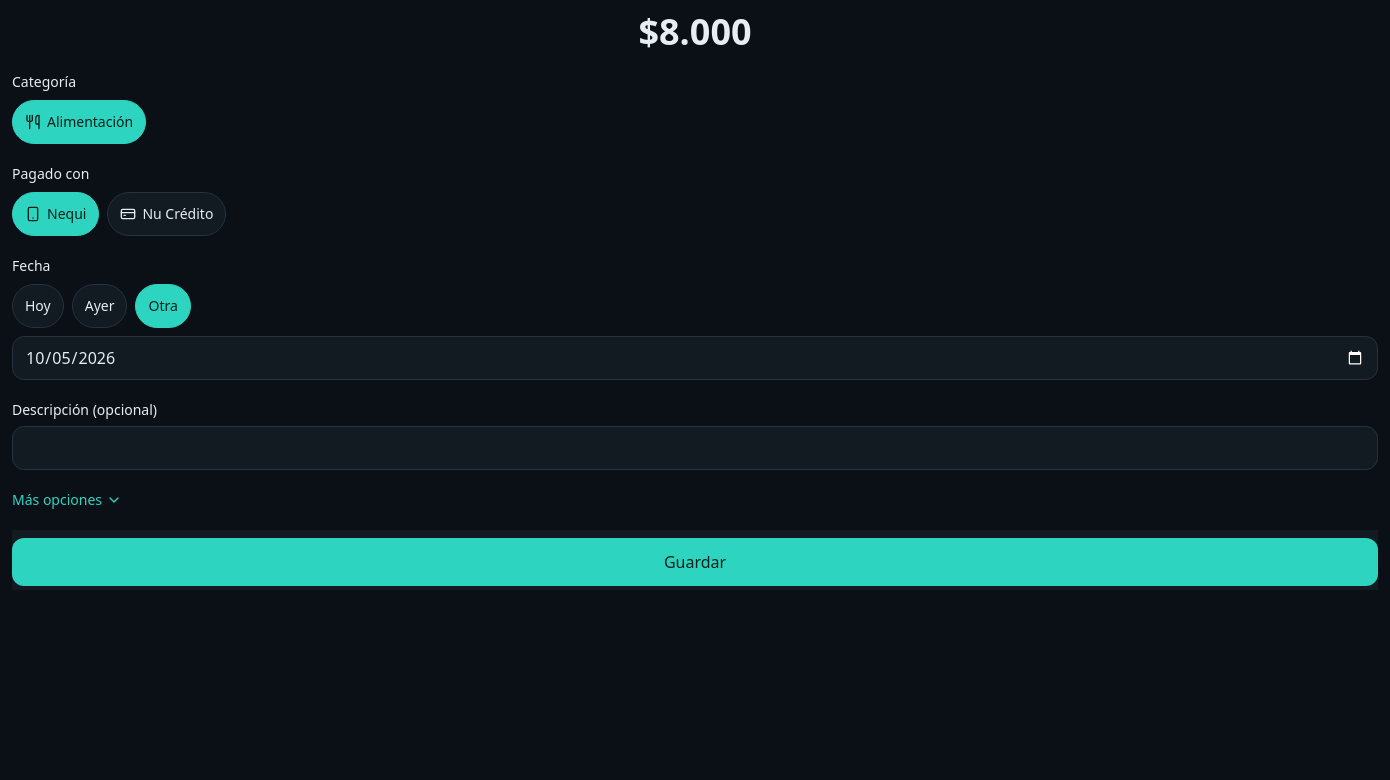
Test case: TransactionForm (edit and errors) › shows the server message when the edit hits ENTITY_DELETED
What coordinates should you click on to do the following:
click the button "Guardar"
I would click on:
 (695, 562)
Its box is [12,538,1378,586].
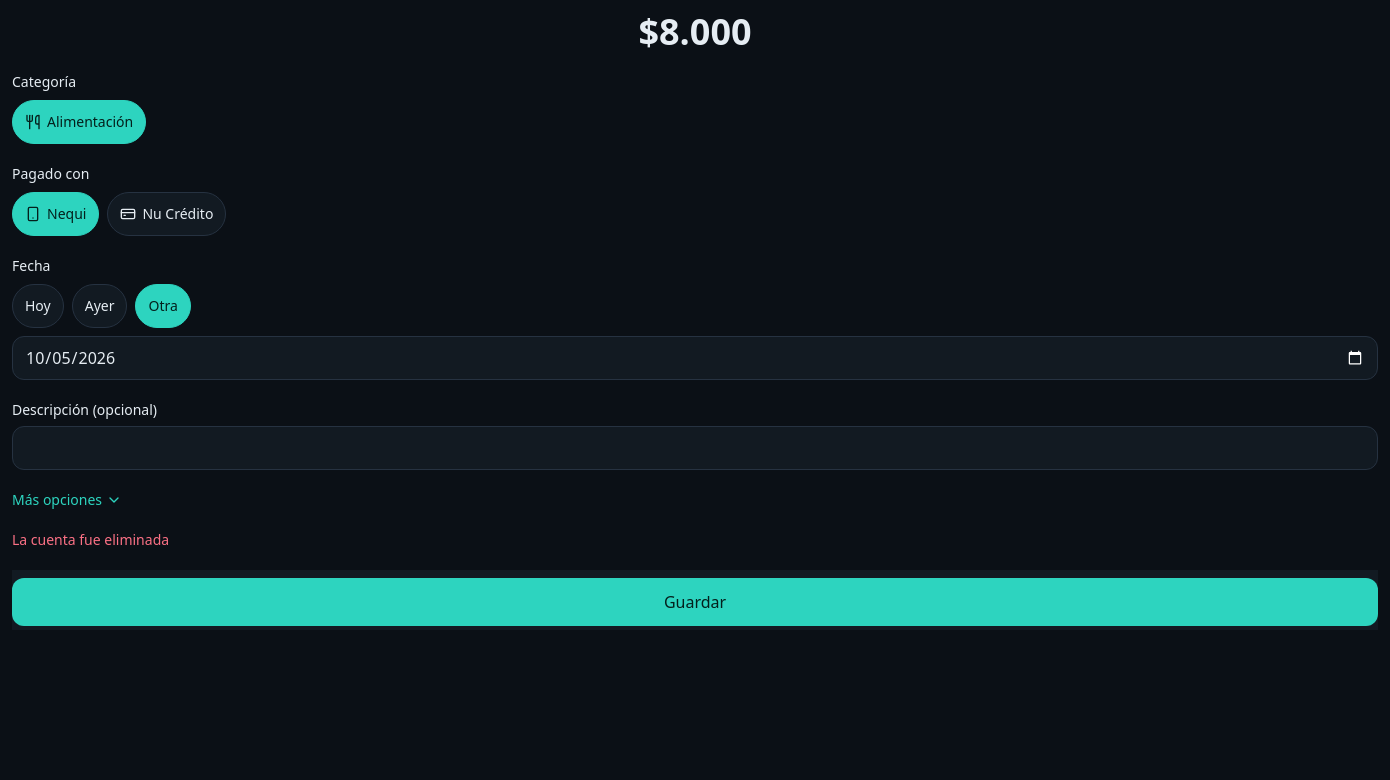
Result: the message reads "La cuenta fue eliminada" at [12,530,169,549]
